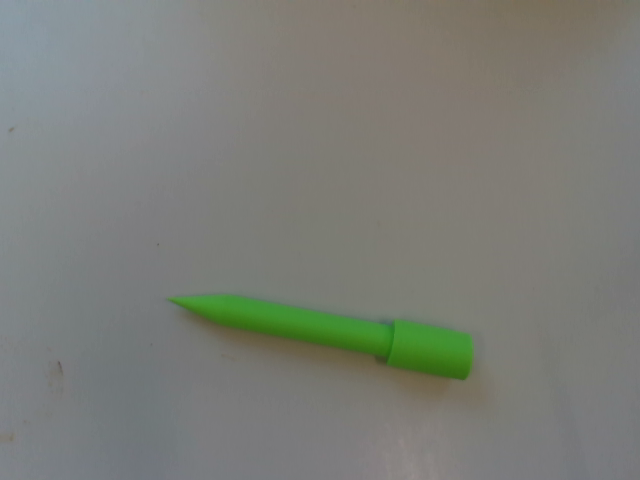Probe: (160, 286, 483, 394)
